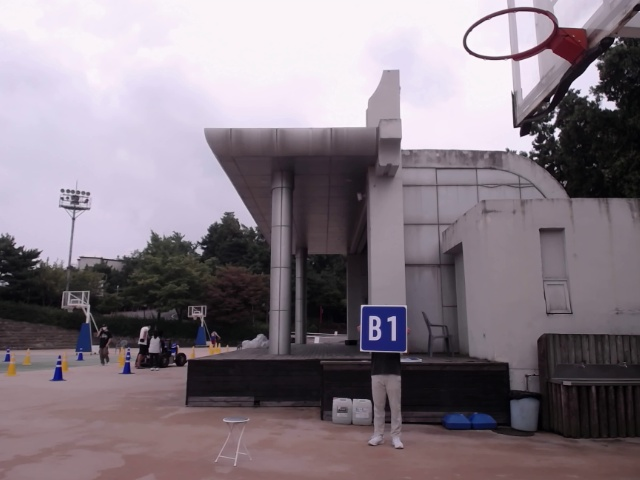delivery_b1: (361, 305, 407, 352)
